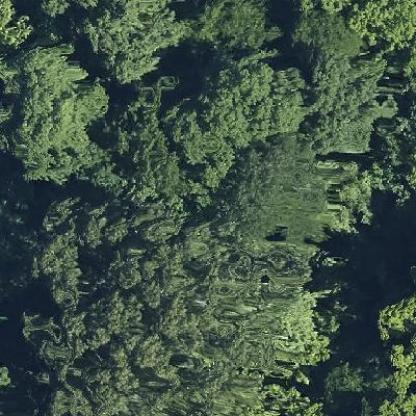tree-top: (1, 34, 115, 183), (299, 47, 392, 157), (317, 353, 387, 400), (214, 1, 278, 49)
